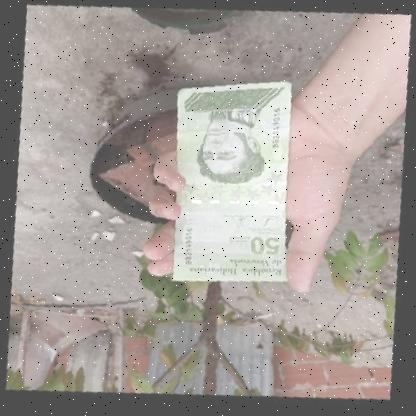fifty-front-vef: (150, 66, 314, 297)
